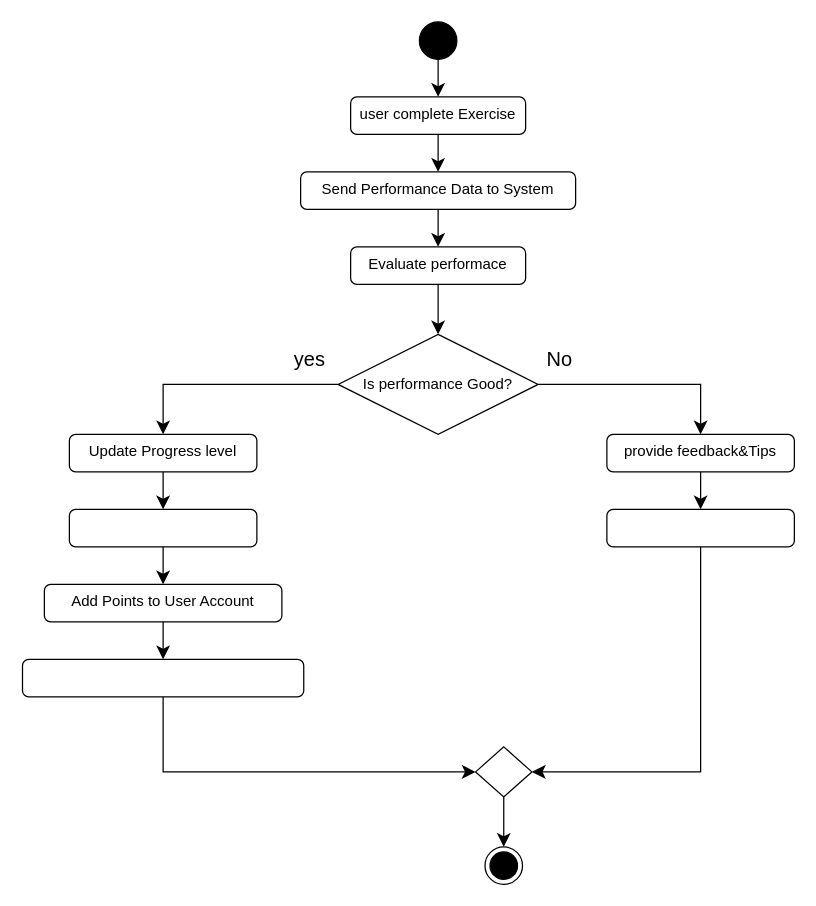
Image size: 816x906. Some labels were removed from this diagram. Each missing label, with the box of its shape:
calculate Reward Points: (68, 508, 257, 547)
Show Updated Progress & Rewards: (21, 658, 304, 697)
suggest More Practice: (606, 508, 794, 547)
